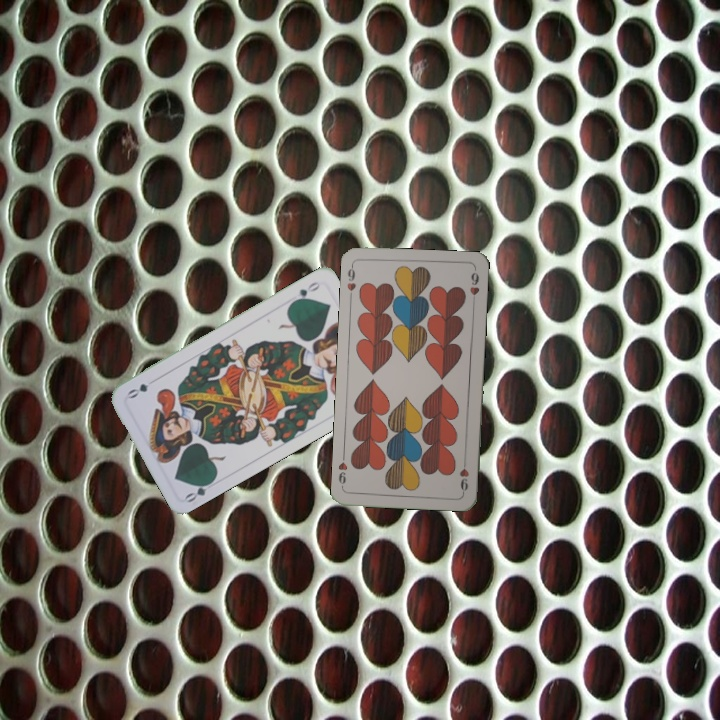GO: (181, 475, 219, 505), (287, 277, 323, 306)
H9: (455, 455, 471, 495), (343, 261, 359, 301)
